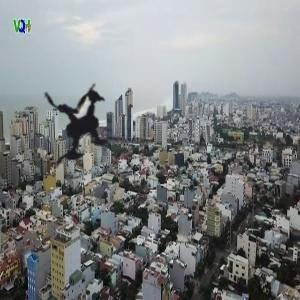drone: (5, 46, 171, 212)
